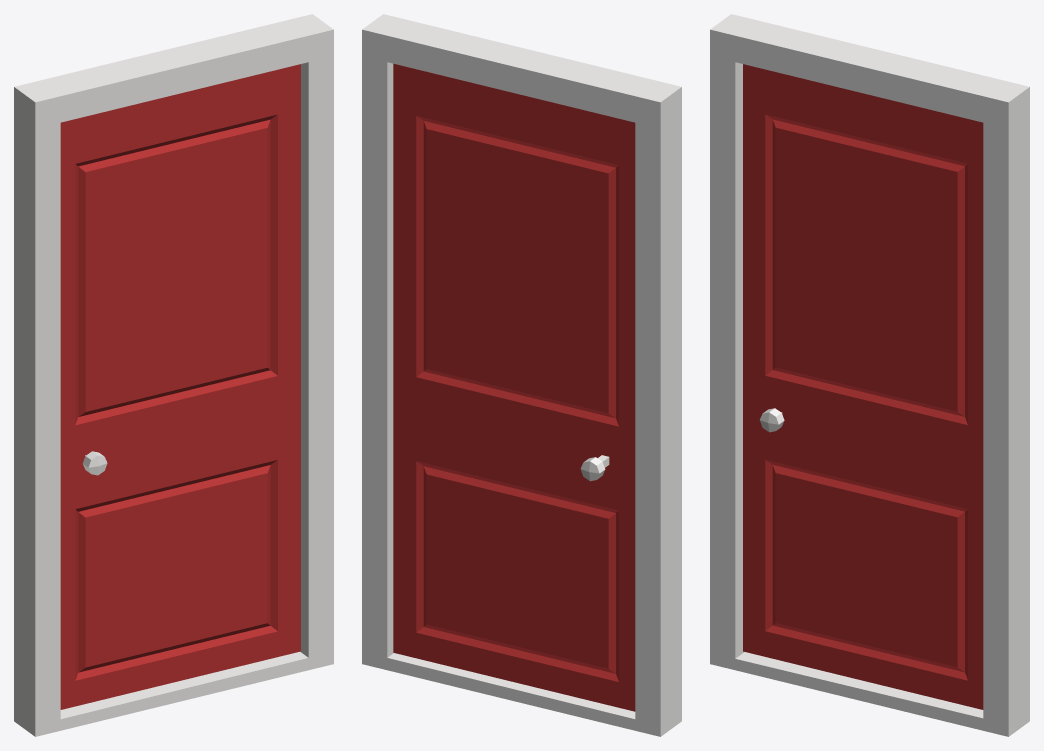
The model's file is Door_2_231109.glb.
3 renders of one model, left to right at view 1: azimuth 30°, elevation 25°; view 2: azimuth 150°, elevation 25°; view 3: azimuth 330°, elevation 25°, orthographic.
Parts seen in each view (by area): view 1: Door_2; view 2: Door_2; view 3: Door_2.
Boxes of the visible parts, left/top/right/bottom form: Door_2: left=14, top=14, right=333, bottom=736; Door_2: left=362, top=14, right=681, bottom=736; Door_2: left=710, top=14, right=1029, bottom=736.
Bounding box in the file's own units: 1.64 × 3.34 × 0.3302.
Materials: 1 (1 with a texture image).
